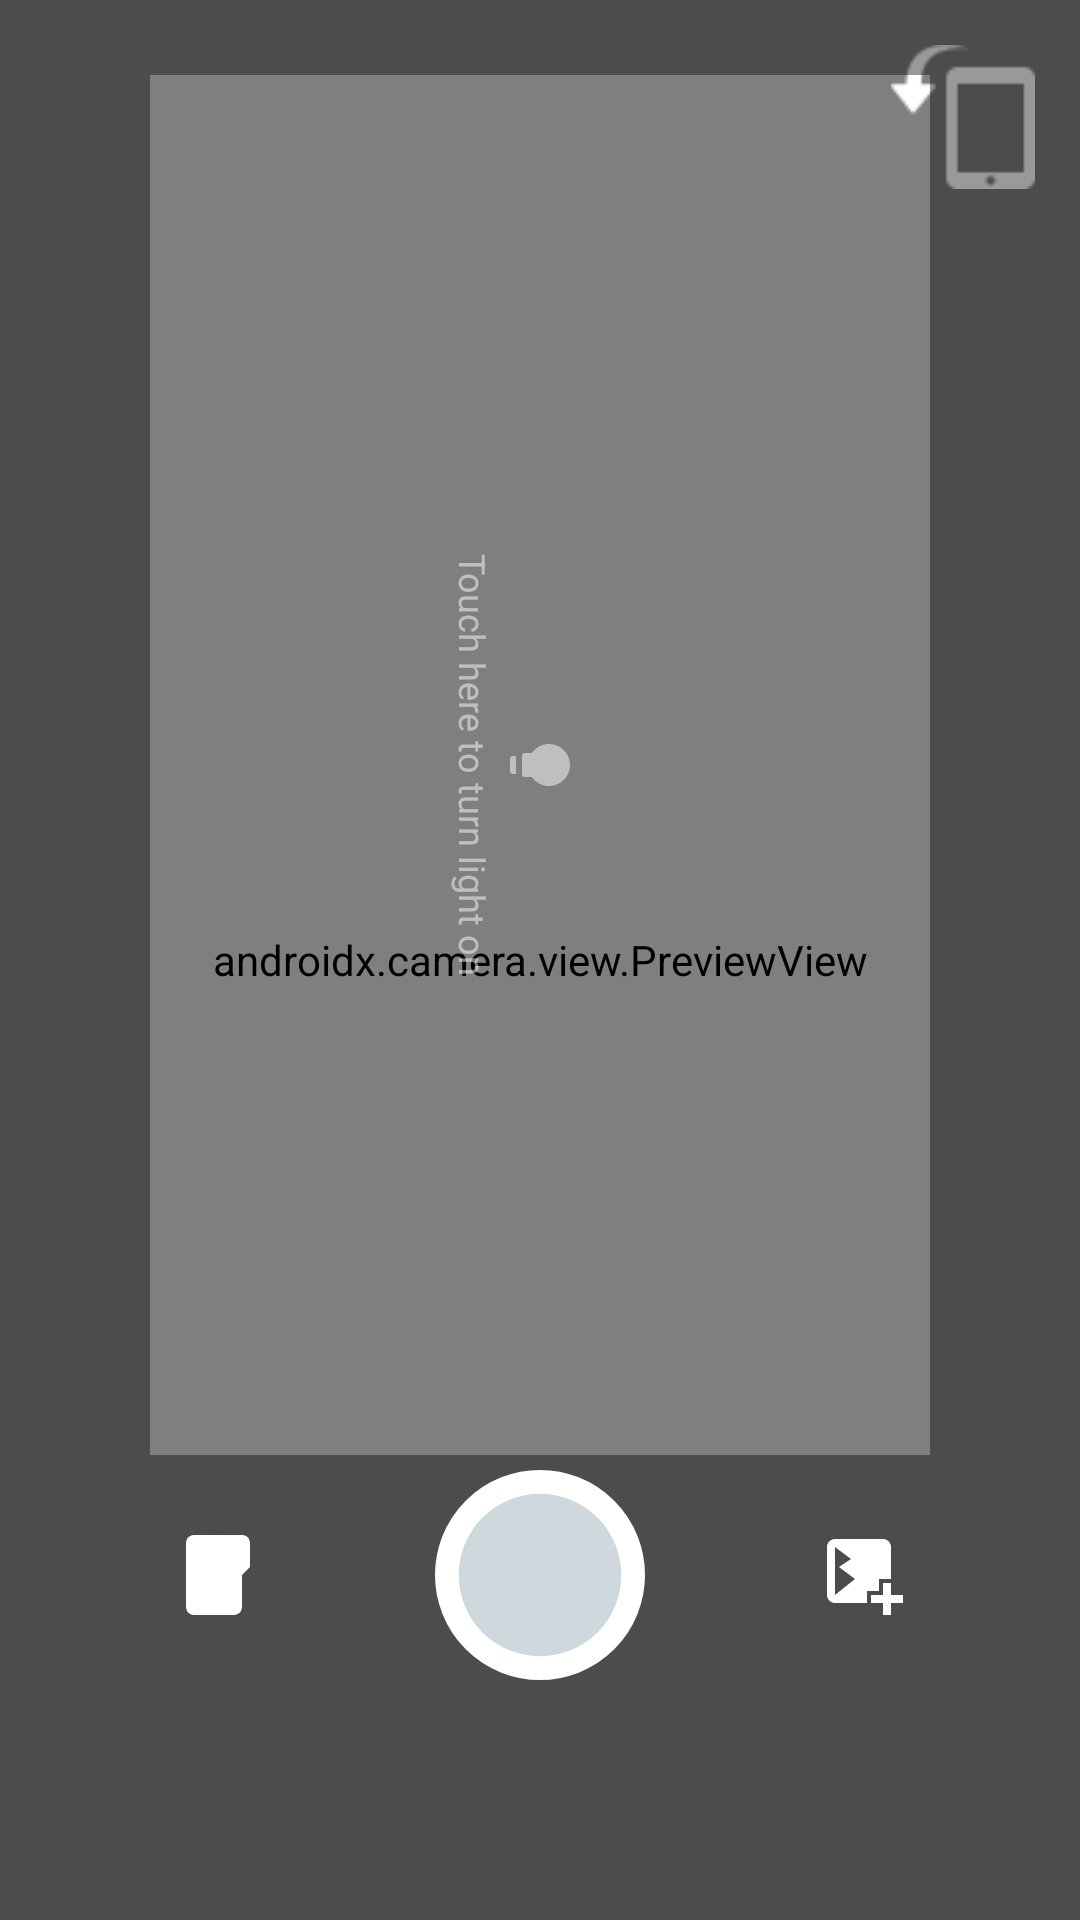

Where to tap for icons on this 1080 × 1920 app screen, as (x=x, y=y):
phonerotate: (x=963, y=117)
